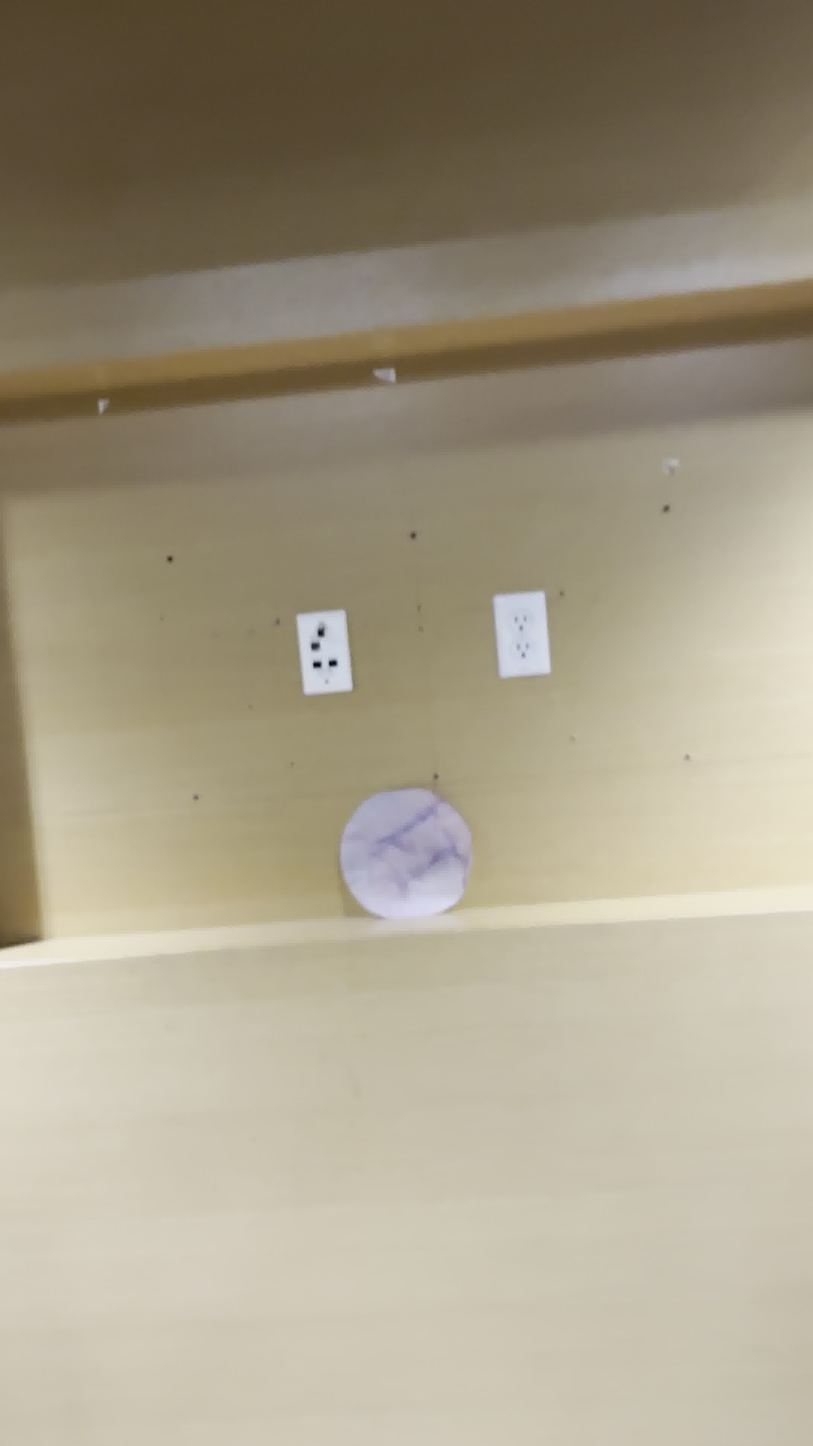Target: (335, 793, 475, 917)
